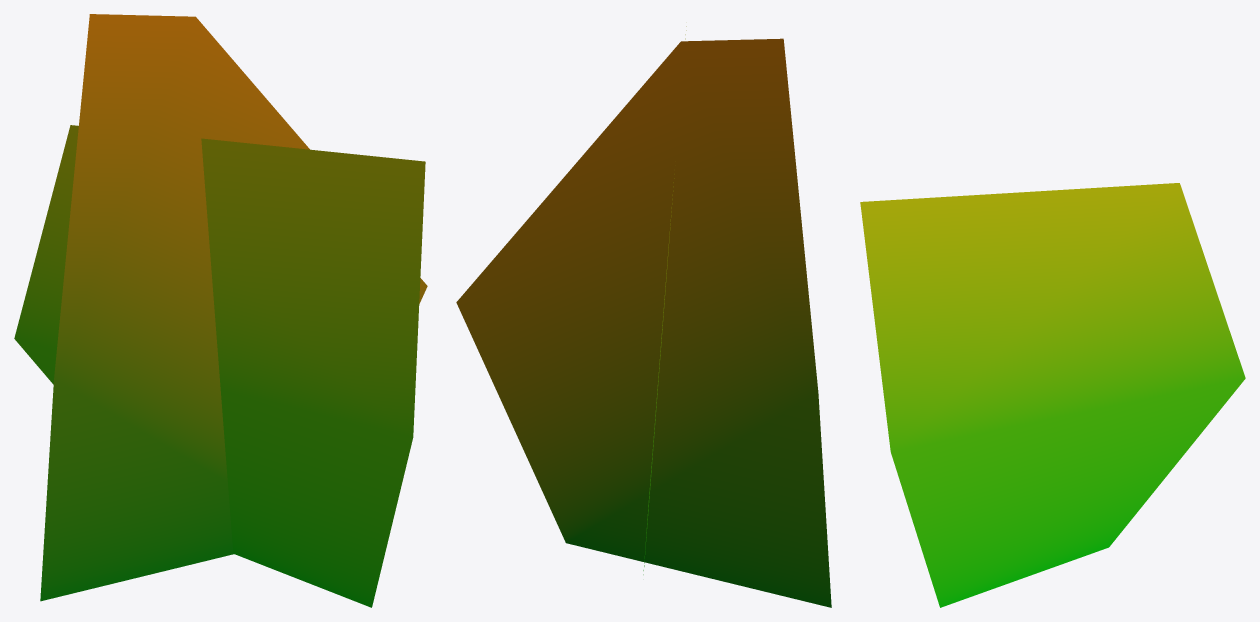
The model's file is Seaweed_LOD1_Var12_sdpjN.fbx.
3 renders of one model, left to right at view 1: azimuth 30°, elevation 25°; view 2: azimuth 150°, elevation 25°; view 3: azimuth 270°, elevation 25°, orthographic. The views are drawn at different scales.
Parts seen in each view (by area): view 1: merge1; view 2: merge1; view 3: merge1.
Part boxes in pixels (x1=…): merge1: x1=14, y1=14, x2=427, y2=607; merge1: x1=456, y1=26, x2=831, y2=607; merge1: x1=860, y1=183, x2=1245, y2=607.
Size of the model in its own units: 11.58 by 16.94 by 11.7.
